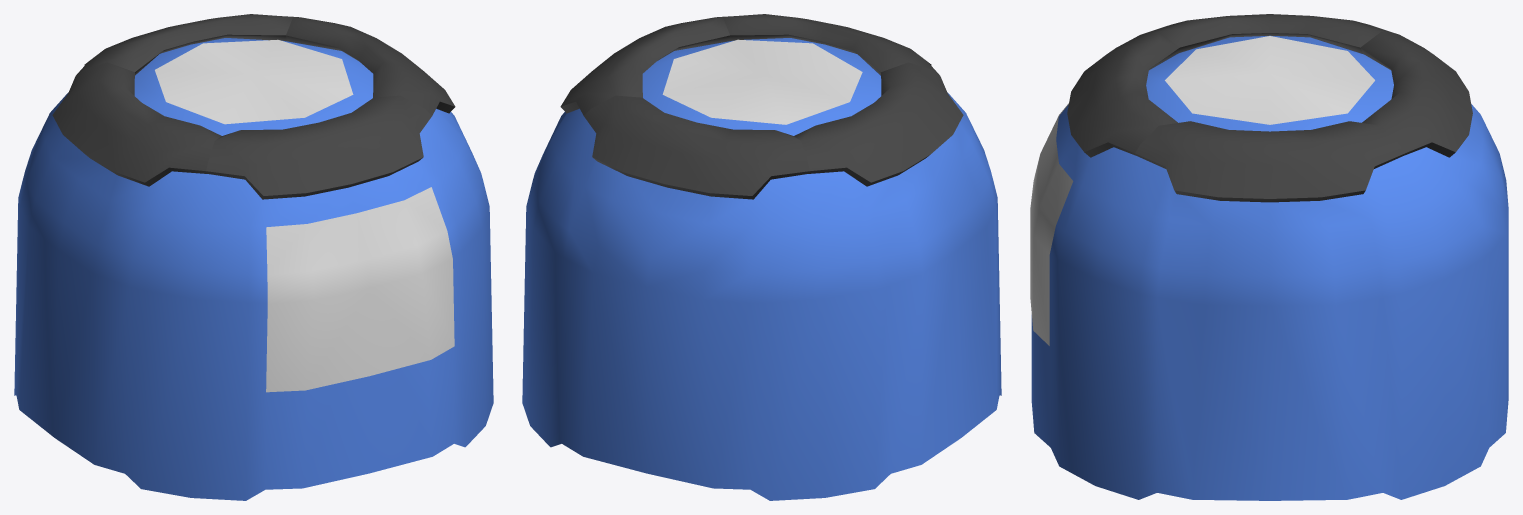
Rendered from obj_characterobject_glowgorppackage_top.fbx.
3 renders of one model, left to right at view 1: azimuth 30°, elevation 25°; view 2: azimuth 150°, elevation 25°; view 3: azimuth 270°, elevation 25°, orthographic. The views are drawn at different scales.
Parts seen in each view (by area): view 1: obj_characterobject_glowgorppackage_top; view 2: obj_characterobject_glowgorppackage_top; view 3: obj_characterobject_glowgorppackage_top.
Part boxes in pixels (left/top/right/bottom): obj_characterobject_glowgorppackage_top: left=14, top=14, right=493, bottom=500; obj_characterobject_glowgorppackage_top: left=522, top=14, right=1001, bottom=500; obj_characterobject_glowgorppackage_top: left=1030, top=14, right=1508, bottom=500.
Bounding box in the file's own units: 3.05 × 2.38 × 3.05.
